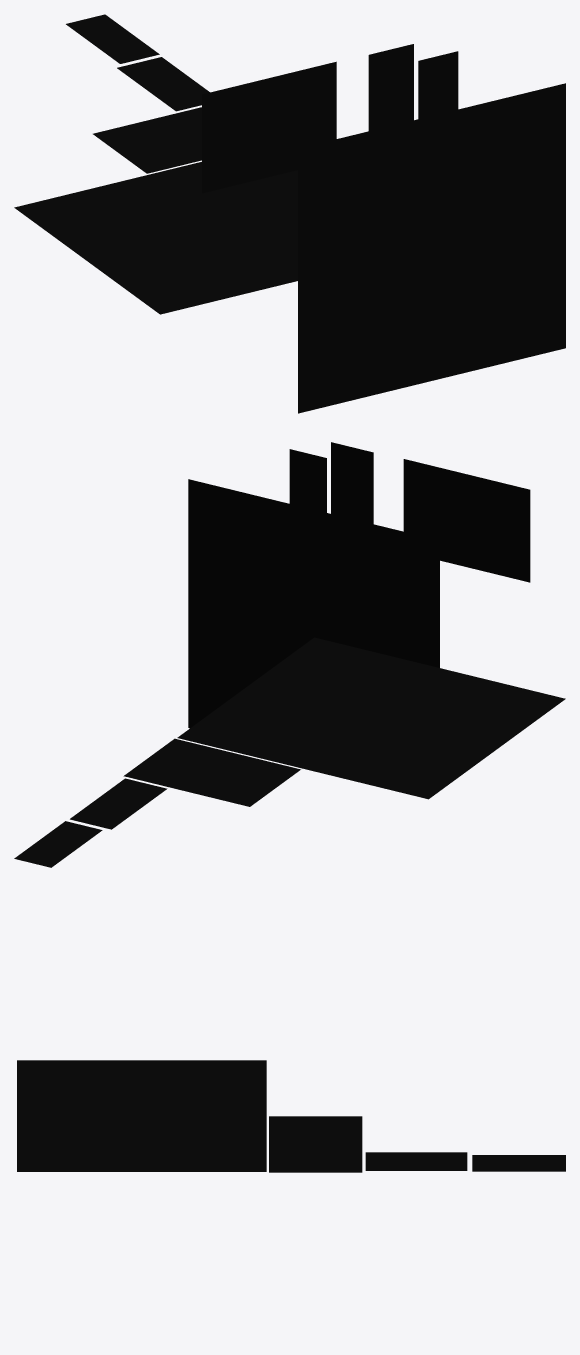
File: cat.fbx
3 renders of one model, top to bottom at view 1: azimuth 30°, elevation 25°; view 2: azimuth 150°, elevation 25°; view 3: azimuth 270°, elevation 25°, orthographic. The views are drawn at different scales.
Parts seen in each view (by area): view 1: torso, flyingCat/sprites/body.png, tail, flyingCat/sprites/tail.png, wingL, flyingCat/sprites/wingL.png, wingR, flyingCat/sprites/wingR.png; view 2: torso, flyingCat/sprites/body.png, tail, flyingCat/sprites/tail.png, wingL, wingR, flyingCat/sprites/wingL.png, flyingCat/sprites/wingR.png; view 3: flyingCat/sprites/body.png, flyingCat/sprites/tail.png, flyingCat/sprites/wingL.png, flyingCat/sprites/wingR.png.
Part boxes in pixels (x1=…): torso: x1=298, y1=83, x2=565, y2=413; flyingCat/sprites/body.png: x1=14, y1=162, x2=297, y2=314; tail: x1=202, y1=61, x2=336, y2=193; flyingCat/sprites/tail.png: x1=93, y1=107, x2=201, y2=173; wingL: x1=368, y1=44, x2=413, y2=131; flyingCat/sprites/wingL.png: x1=117, y1=57, x2=209, y2=111; wingR: x1=418, y1=51, x2=458, y2=118; flyingCat/sprites/wingR.png: x1=66, y1=14, x2=159, y2=63; torso: x1=188, y1=479, x2=439, y2=728; flyingCat/sprites/body.png: x1=177, y1=637, x2=565, y2=799; tail: x1=403, y1=459, x2=530, y2=582; flyingCat/sprites/tail.png: x1=123, y1=738, x2=300, y2=806; wingL: x1=331, y1=442, x2=373, y2=553; wingR: x1=289, y1=449, x2=326, y2=551; flyingCat/sprites/wingL.png: x1=70, y1=778, x2=167, y2=829; flyingCat/sprites/wingR.png: x1=14, y1=821, x2=102, y2=867; flyingCat/sprites/body.png: x1=17, y1=1060, x2=266, y2=1171; flyingCat/sprites/tail.png: x1=269, y1=1116, x2=362, y2=1172; flyingCat/sprites/wingL.png: x1=365, y1=1152, x2=467, y2=1170; flyingCat/sprites/wingR.png: x1=472, y1=1155, x2=565, y2=1171.
Size of the model in its own units: 10.46 by 8.48 by 14.5.
1 material, 1 textured.
